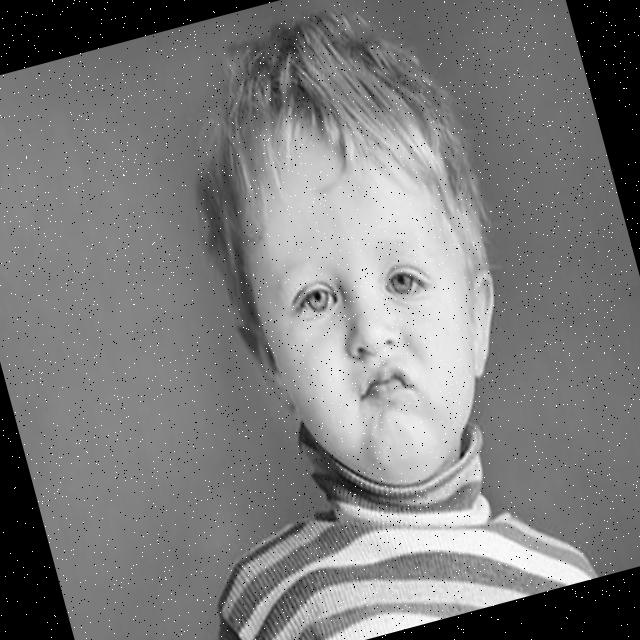Disgust: (205, 80, 514, 516)
